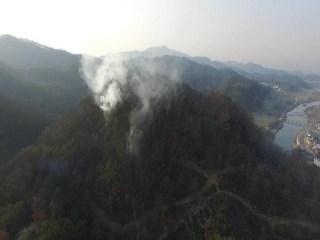smoke: (78, 51, 196, 137)
